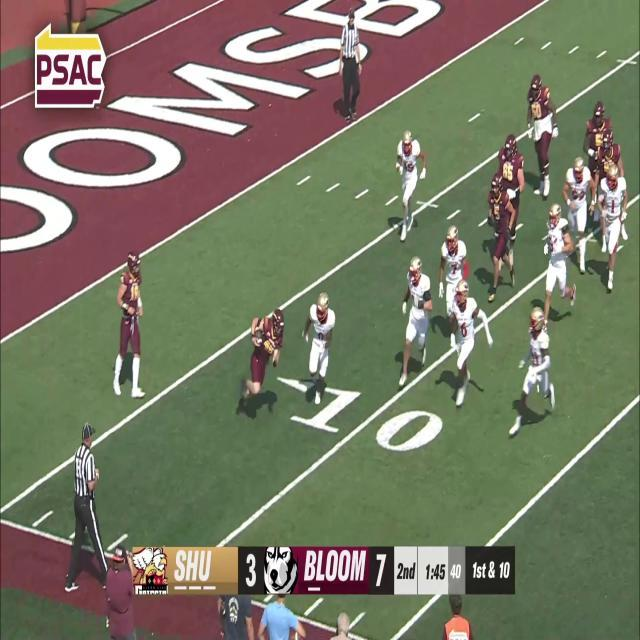football: (254, 326, 262, 346)
